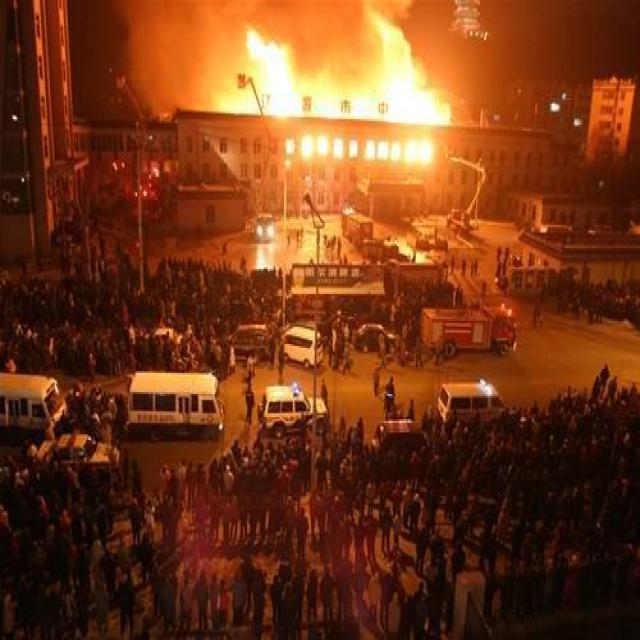fire: (205, 24, 448, 172)
other: (250, 219, 274, 238), (478, 375, 494, 396), (289, 378, 304, 398)
